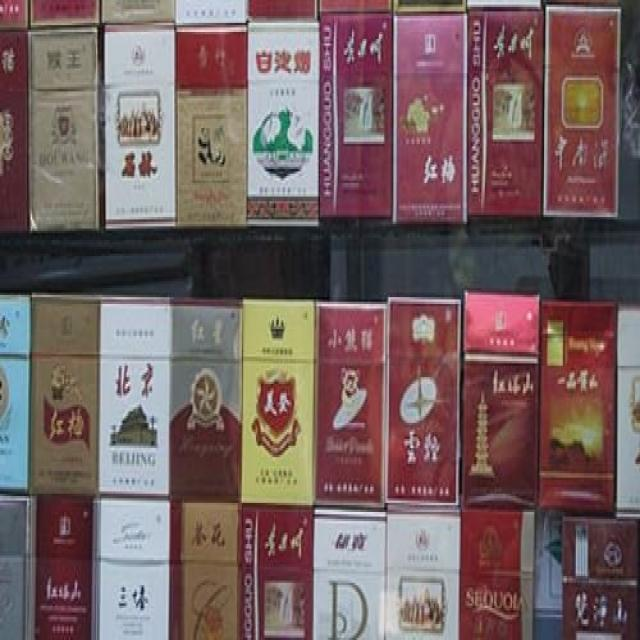box: (461, 290, 539, 510), (540, 299, 617, 512), (392, 14, 468, 222), (468, 9, 544, 215), (545, 7, 620, 215), (242, 299, 315, 507), (246, 21, 319, 229), (320, 16, 393, 222), (316, 304, 388, 512), (387, 299, 460, 503), (105, 25, 177, 229), (97, 295, 169, 498), (28, 25, 99, 229), (29, 295, 100, 498), (172, 299, 242, 503), (175, 30, 246, 229), (29, 496, 101, 640), (99, 498, 170, 638), (534, 514, 614, 638), (238, 507, 312, 640), (461, 510, 536, 640), (387, 503, 458, 640), (170, 503, 241, 640), (312, 510, 384, 640), (563, 519, 639, 638), (0, 295, 31, 489), (0, 27, 28, 229), (614, 306, 639, 516), (29, 0, 99, 27), (105, 0, 174, 27), (174, 0, 243, 27), (247, 0, 316, 27), (0, 0, 28, 34)
